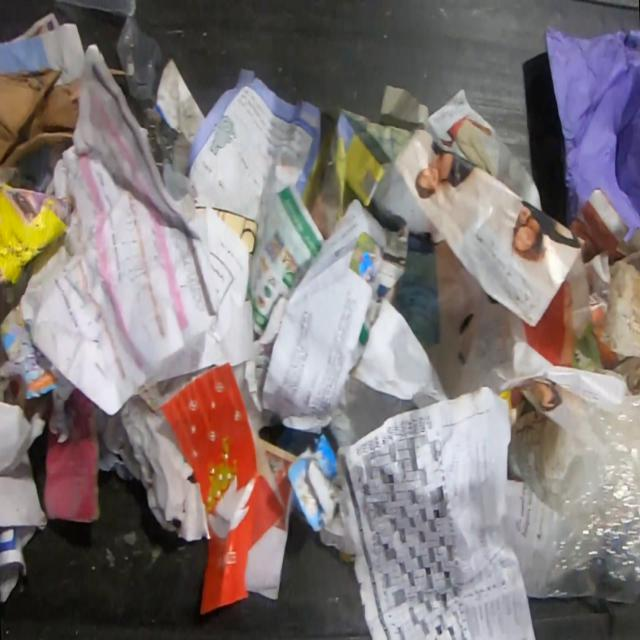cardboard: (544, 25, 640, 243), (286, 435, 364, 561), (0, 66, 83, 171), (42, 386, 103, 525)
soft_plastic: (540, 392, 640, 605), (55, 0, 164, 112)
